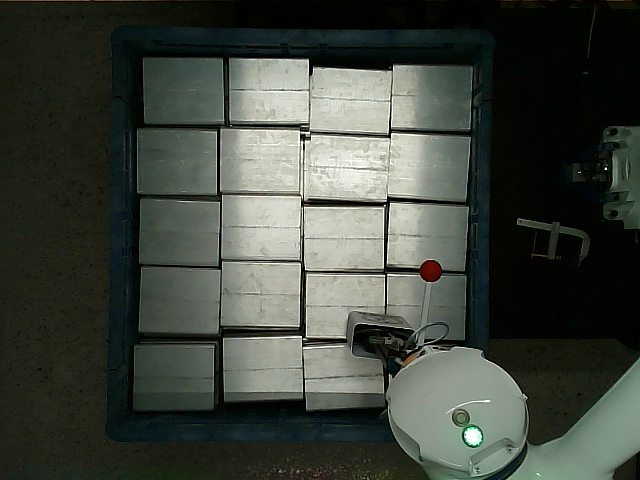green_light: (462, 425, 483, 447)
